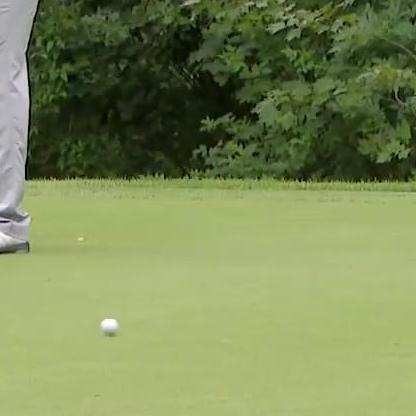golfball: (99, 316, 118, 335)
